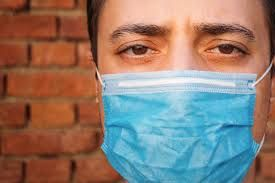with-mask: (93, 1, 275, 183)
